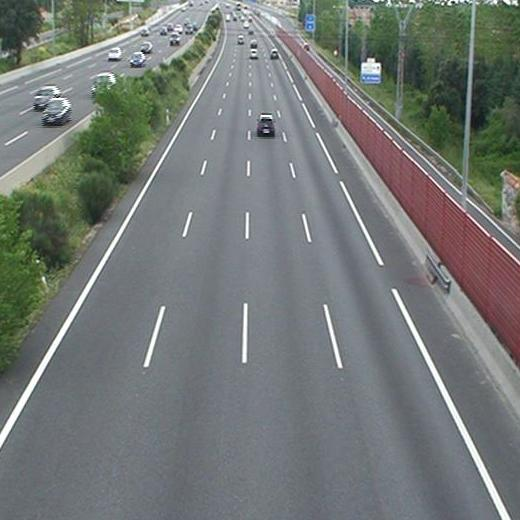car: (258, 115, 275, 133), (269, 50, 278, 58), (249, 49, 257, 58), (237, 35, 244, 44), (250, 40, 256, 47)
